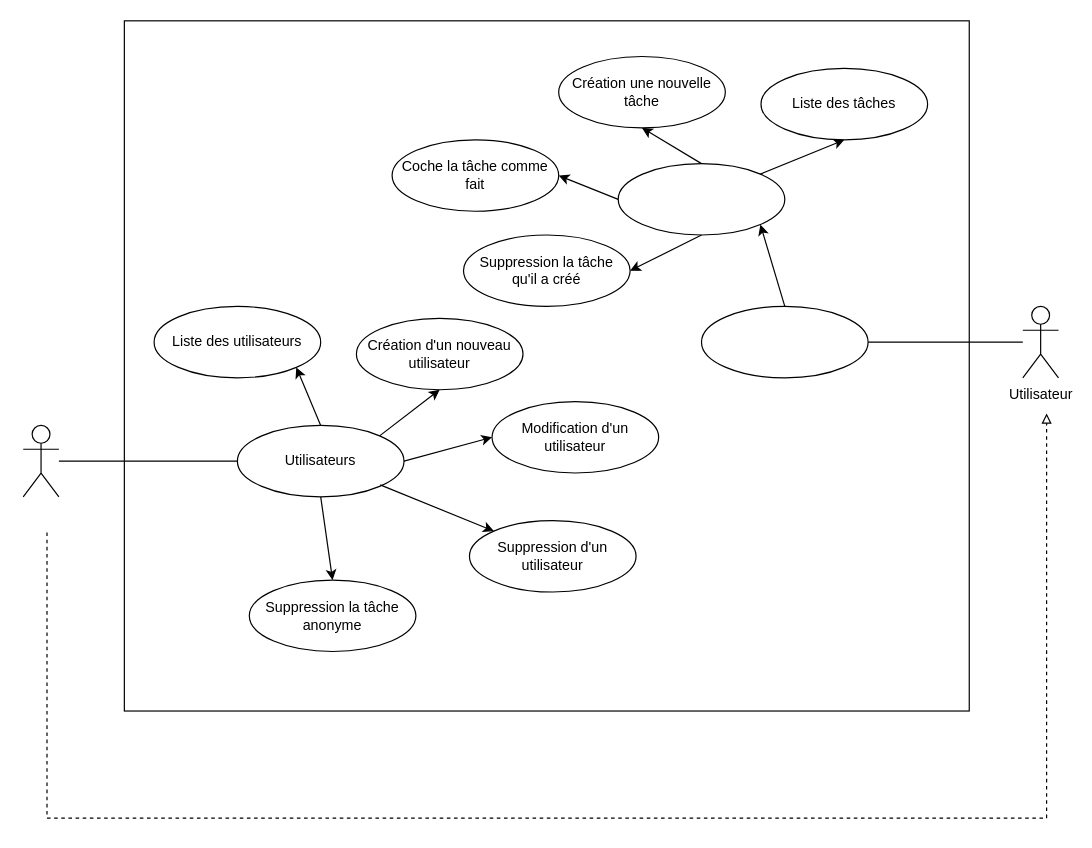
Image size: 1092x848. Some labels were removed from this diagram. The shapes that lost their labels are listed below. From the top down, each one's box as (x1, y1, x2, y2) in pixels, then its label:
(617, 162, 785, 235): Tâches
(700, 305, 868, 378): Login
(22, 424, 59, 497): Admin
